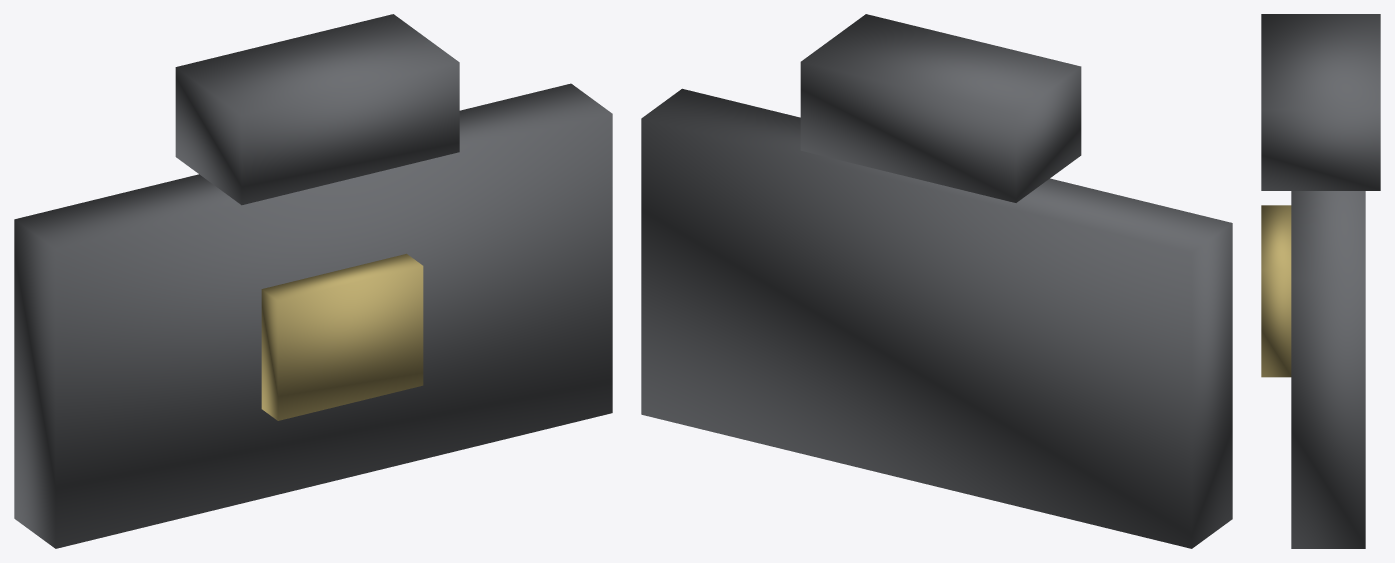
The model's file is floor_indicator_09.glb.
The picture shows the model from 3 angles, left to right: view 1: azimuth 30°, elevation 25°; view 2: azimuth 150°, elevation 25°; view 3: azimuth 270°, elevation 25°; orthographic projection. The views are drawn at different scales.
Visible parts, largest first — view 1: world; view 2: world; view 3: world.
Boxes of the visible parts, x1,y1,x2,y2 form: world: (14,14,612,548); world: (641,14,1232,548); world: (1261,14,1380,548).
Bounding box in the file's own units: 0.4048 × 0.2808 × 0.0832.
